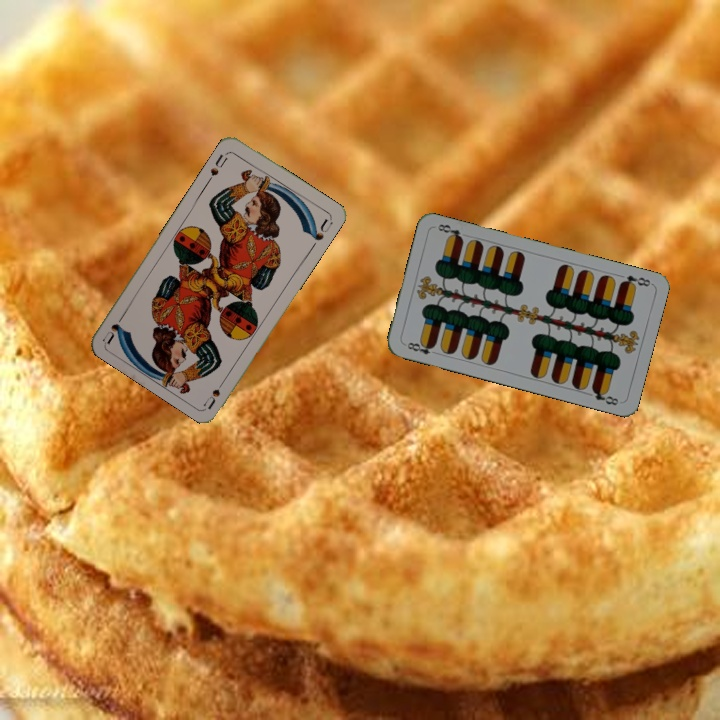E8: (401, 338, 440, 357), (616, 271, 653, 291)
SU: (199, 373, 230, 411), (204, 148, 231, 185)
